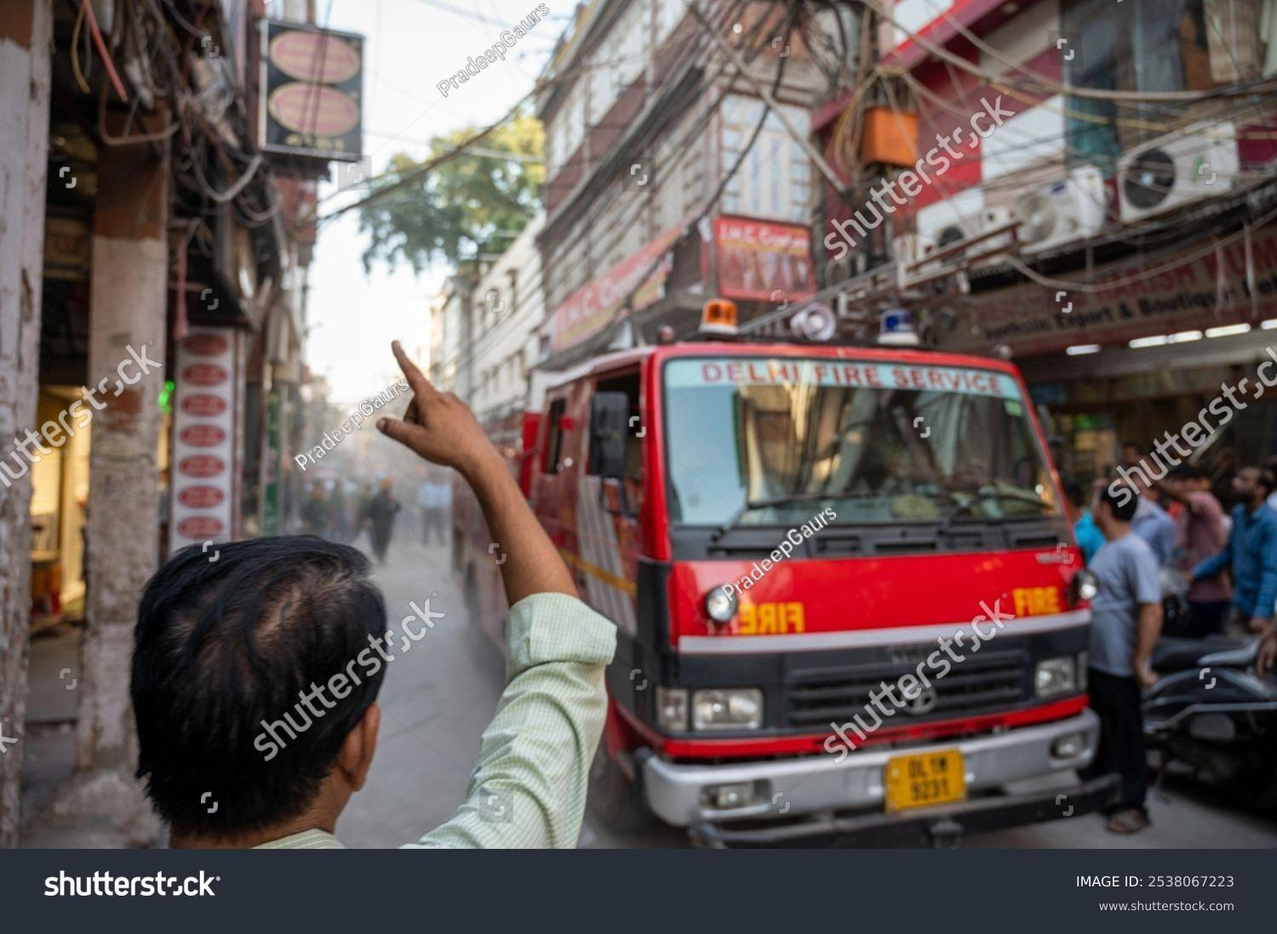Fire-engine: (512, 223, 1125, 851), (729, 597, 808, 632), (1003, 582, 1063, 618)
